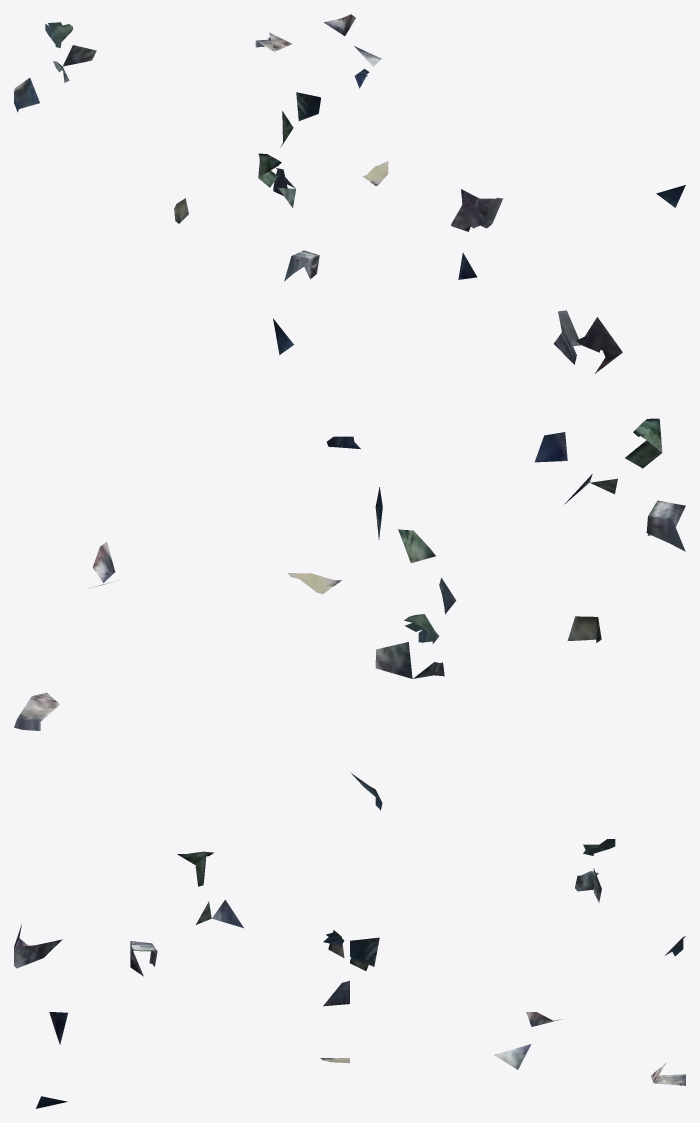
3 views of the same model, one above another, from view 1: azimuth 30°, elevation 25°; view 2: azimuth 150°, elevation 25°; view 3: azimuth 270°, elevation 25° (orthographic). The views are drawn at different scales.
Visible parts, largest first — view 1: 30436272704370435401_1; view 2: 30436272704370435401_1; view 3: 30436272704370435401_1.
Boxes of the visible parts, <box> form: 30436272704370435401_1: <box>14,14,685,281</box>; 30436272704370435401_1: <box>14,310,685,810</box>; 30436272704370435401_1: <box>14,839,685,1108</box>.
Bounding box in the file's own units: 26.4 × 7.4 × 38.26.
1 material, 1 textured.
